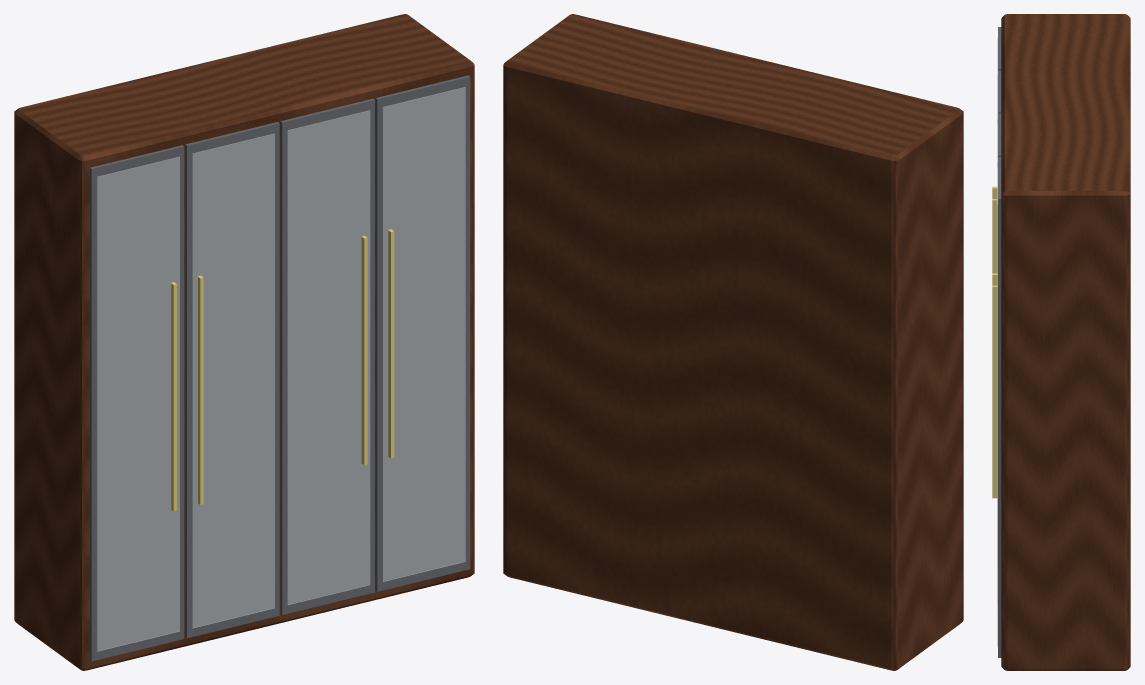
Rendered from wardrobe_tall_glass.glb.
3 renders of one model, left to right at view 1: azimuth 30°, elevation 25°; view 2: azimuth 150°, elevation 25°; view 3: azimuth 270°, elevation 25°, orthographic. The views are drawn at different scales.
Parts seen in each view (by area): view 1: wardrobe_tall_glass_metalBlack, wardrobe_tall_glass_glassFluted, wardrobe_tall_glass_woodWalnut, wardrobe_tall_glass_metalBrass; view 2: wardrobe_tall_glass_woodWalnut; view 3: wardrobe_tall_glass_woodWalnut, wardrobe_tall_glass_metalBlack, wardrobe_tall_glass_metalBrass, wardrobe_tall_glass_glassFluted.
Boxes of the visible parts, x1,y1,x2,y2 form: wardrobe_tall_glass_metalBlack: [90, 75, 470, 661]; wardrobe_tall_glass_glassFluted: [96, 87, 465, 651]; wardrobe_tall_glass_woodWalnut: [14, 14, 474, 670]; wardrobe_tall_glass_metalBrass: [170, 229, 394, 511]; wardrobe_tall_glass_woodWalnut: [503, 14, 963, 670]; wardrobe_tall_glass_woodWalnut: [1001, 14, 1130, 670]; wardrobe_tall_glass_metalBlack: [998, 27, 1001, 657]; wardrobe_tall_glass_metalBrass: [992, 186, 997, 498]; wardrobe_tall_glass_glassFluted: [997, 37, 997, 647].
Size of what is drawn, in the model's own units: 1.85 by 2.3 by 0.6.
Materials: 6 (2 with a texture image).
